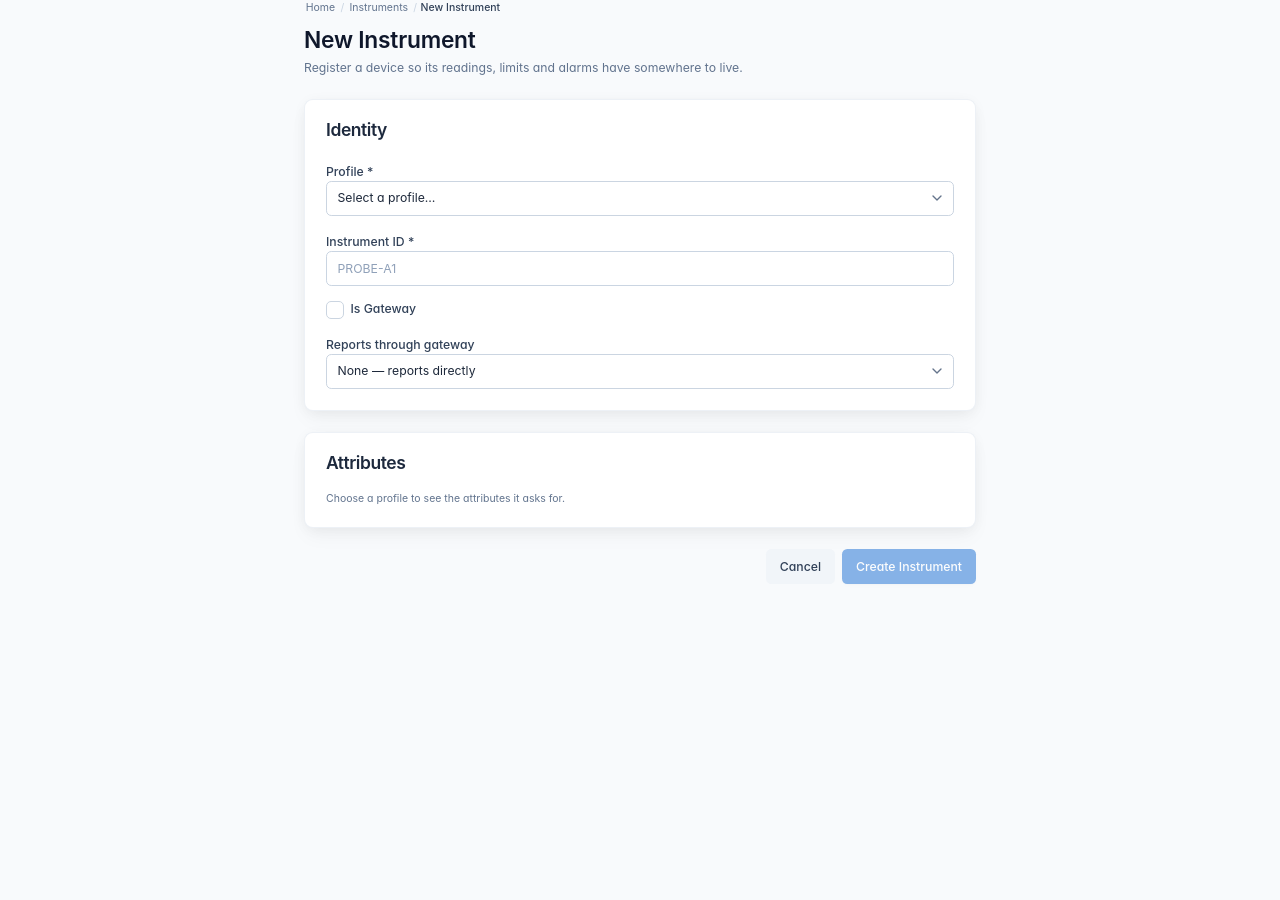
Test: InstrumentCreatePage — attributes come from the profile › keeps the instrument when an attribute write fails, and says which
Type "P-4" into the field labelled "Instrument ID *" at coordinates (640, 268), box [326,251,954,286]
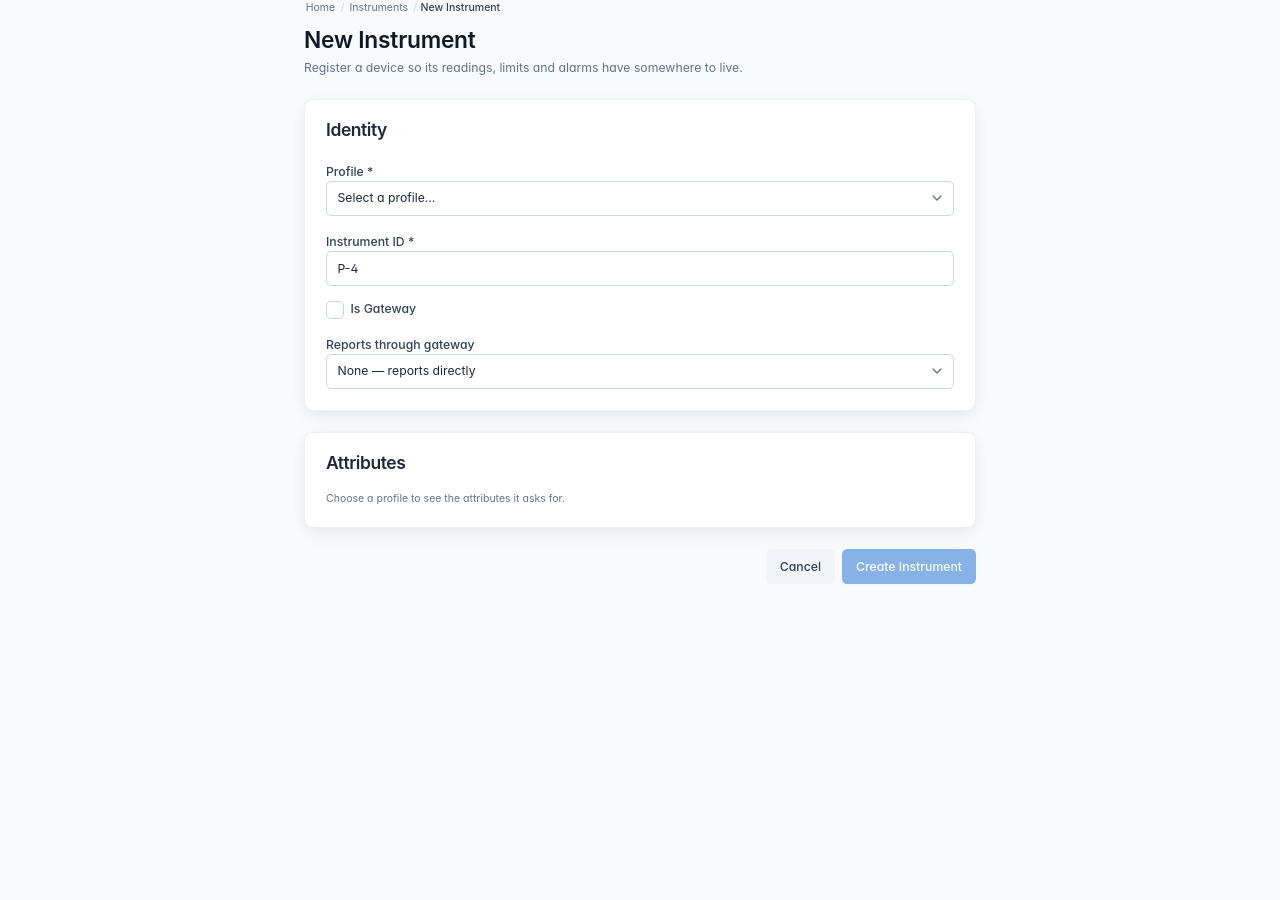
Select "Cleanroom-A" in the dropdown labelled "Profile *" at coordinates (640, 198), box [326,181,954,216]
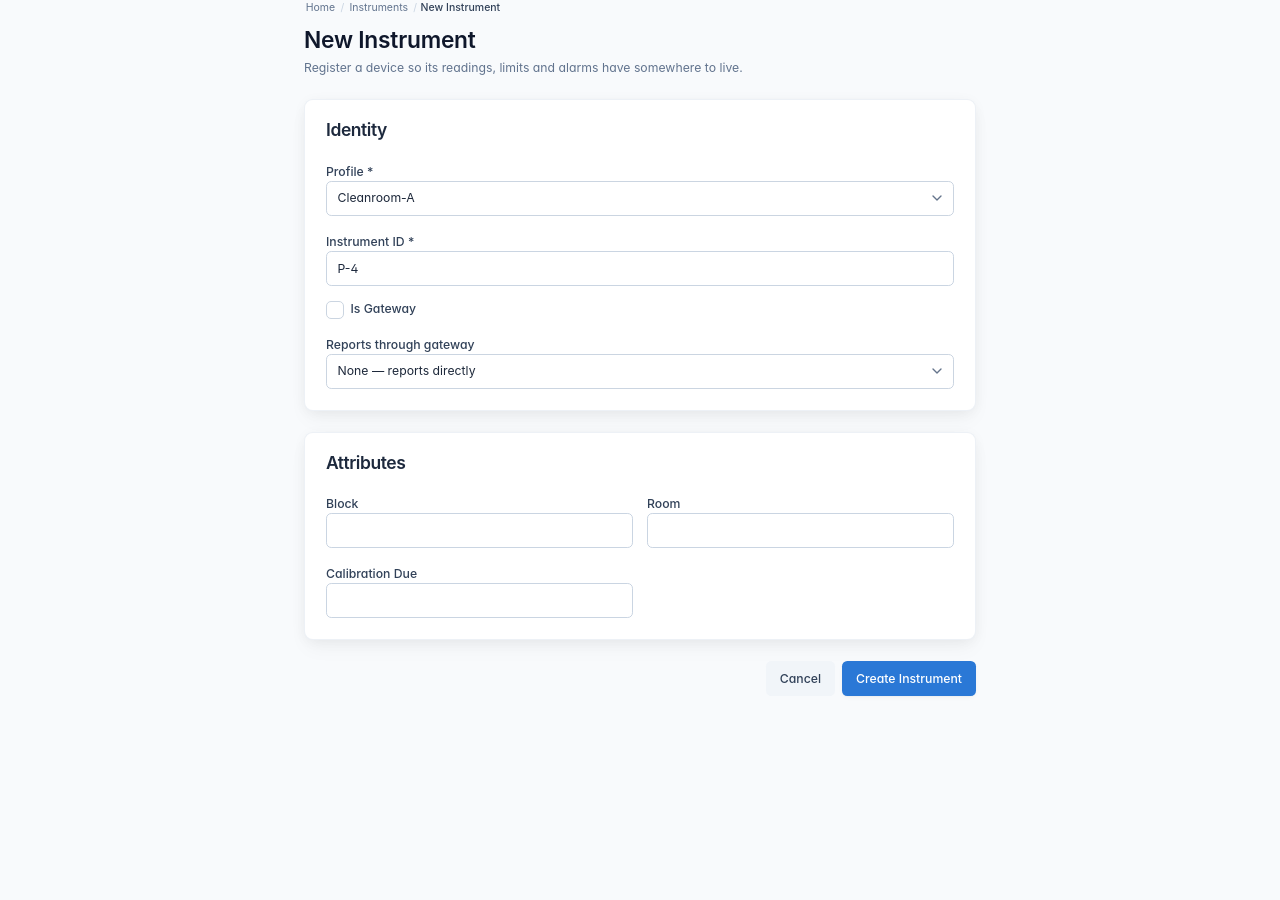
Type "B-204" into the field labelled "Room" at coordinates (800, 531), box [647,513,954,548]
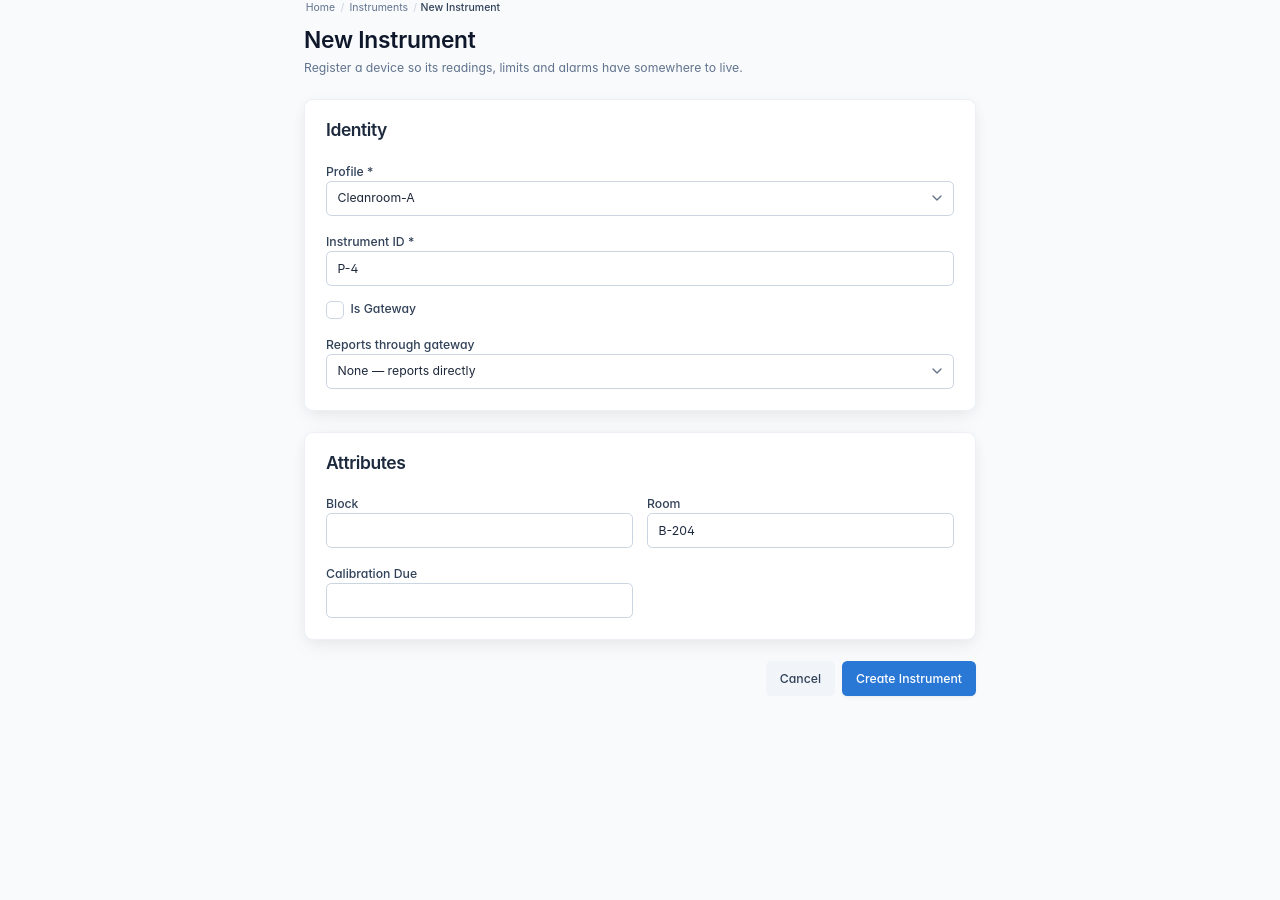
Click the button "Create Instrument" at coordinates (909, 679), box [842,661,976,696]
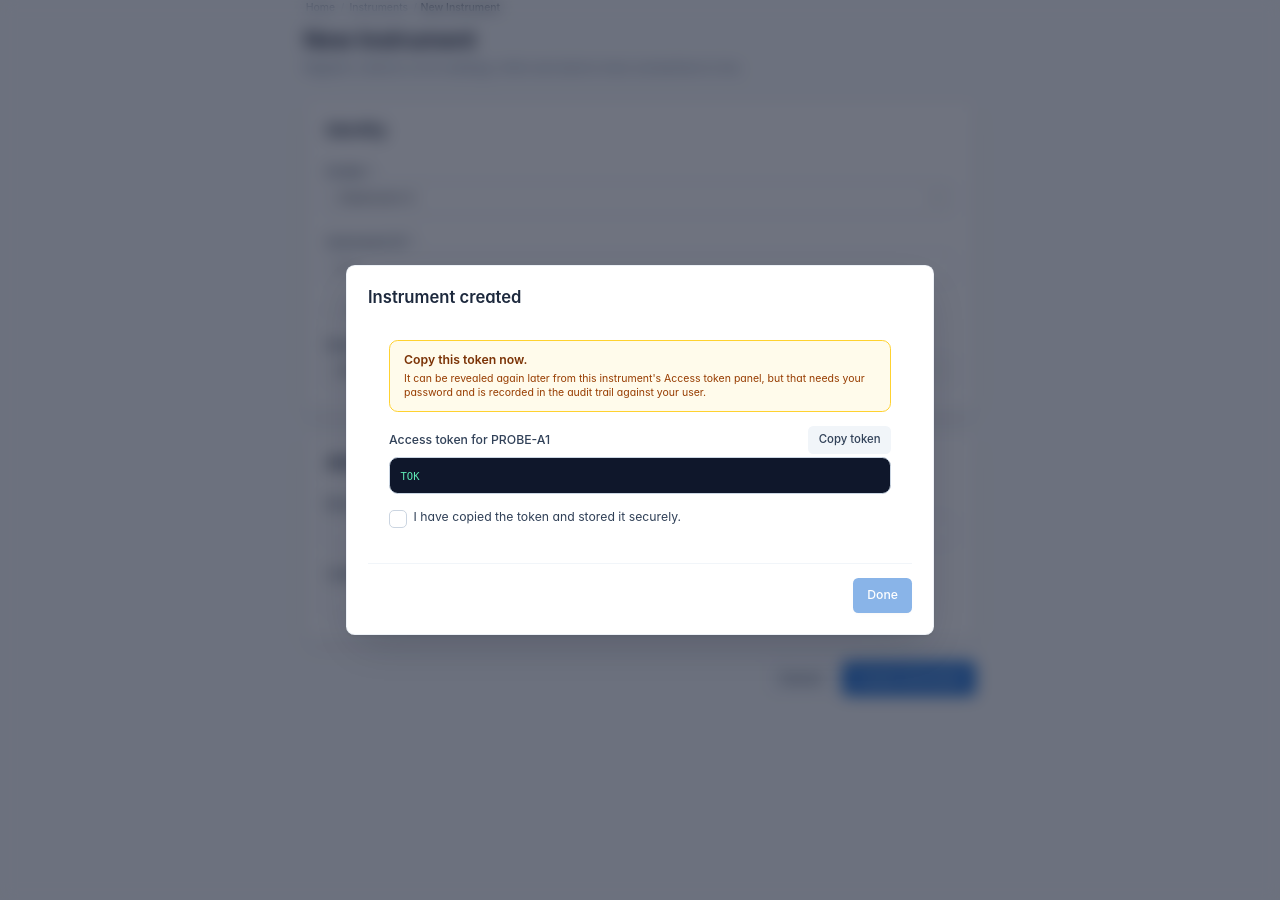
Expected: the text "Access token for PROBE-A1" is shown, [389,431,550,448]
